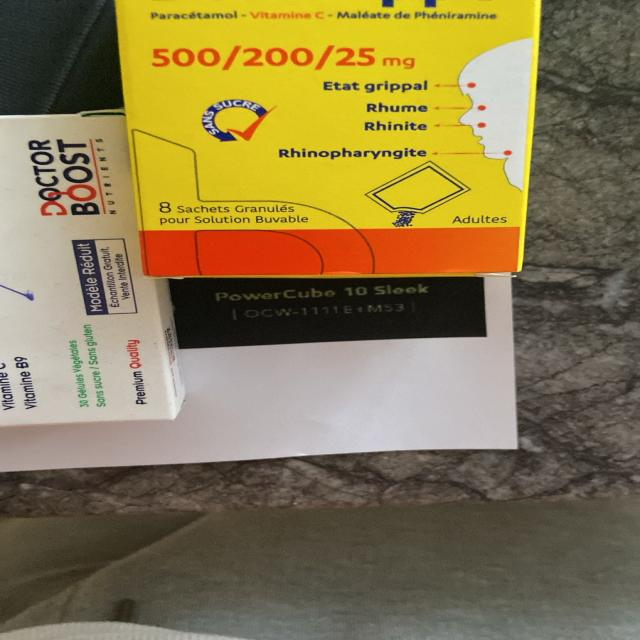PowerCube 10 Sleek OCW-1111ExM53: (207, 282, 436, 323)
